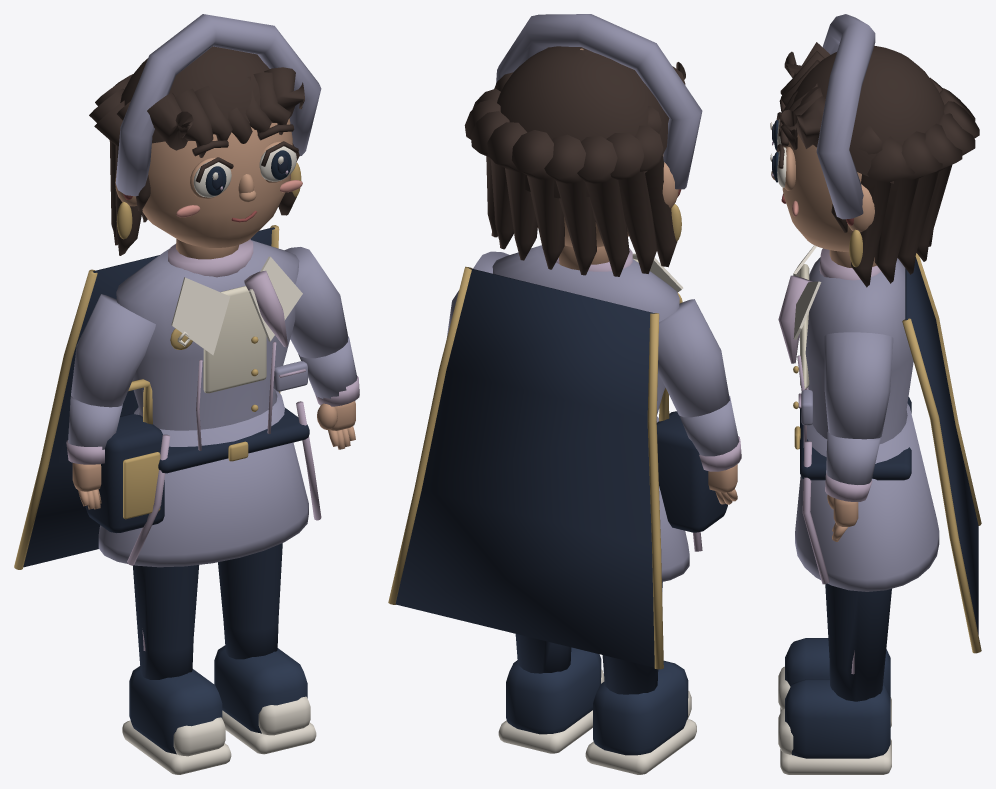
File: npc_graveyard_trainer_4.glb
3 views of the same model, side by side, from view 1: azimuth 30°, elevation 25°; view 2: azimuth 150°, elevation 25°; view 3: azimuth 270°, elevation 25° (orthographic). The views are drawn at different scales.
Parts seen in each view (by area): view 1: figure.054; view 2: figure.054; view 3: figure.054.
Boxes of the visible parts, x1,y1,x2,y2 form: figure.054: (14, 14, 359, 774); figure.054: (388, 14, 741, 774); figure.054: (770, 14, 981, 774).
Bounding box in the file's own units: 0.6595 × 1.58 × 0.4202.
